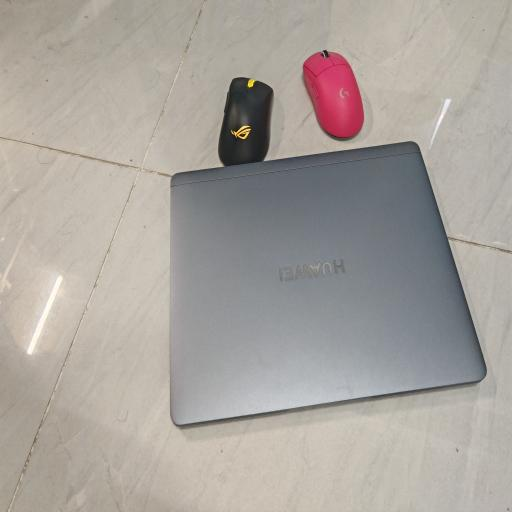laptop: (168, 142, 486, 428)
mouse: (303, 50, 364, 137), (218, 78, 274, 166)
